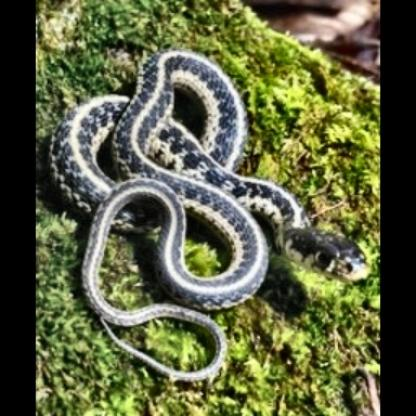Snake: (47, 48, 370, 385)
